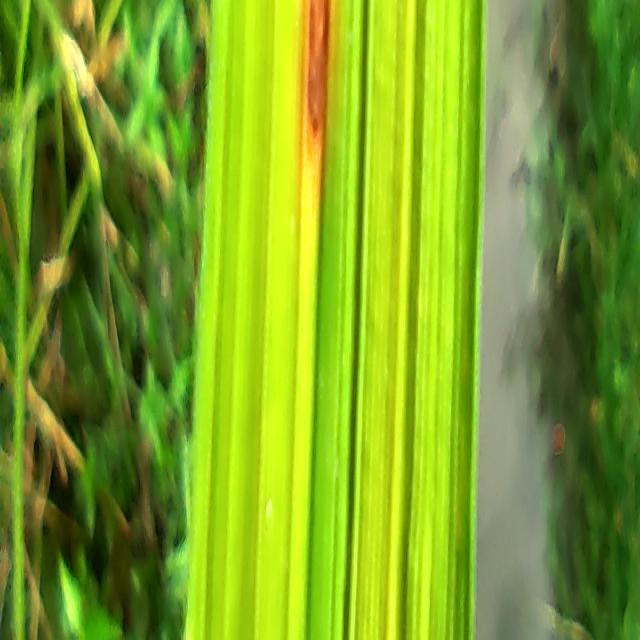NBS: (304, 0, 329, 159)
